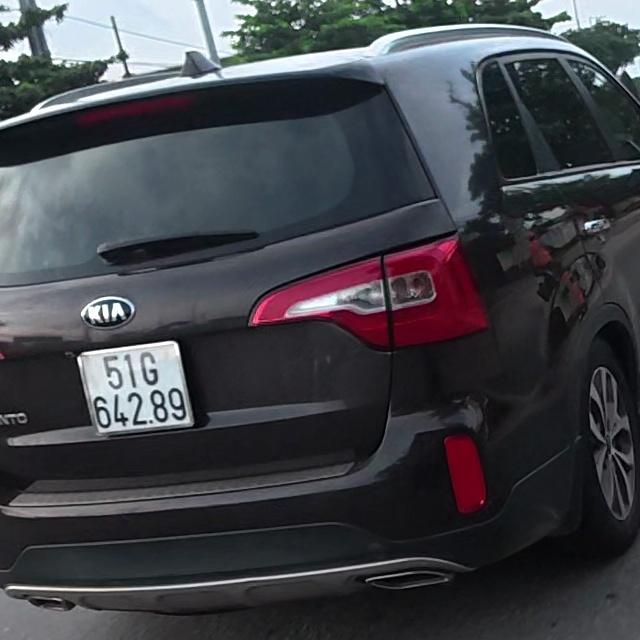license-plate: (77, 342, 194, 435)
